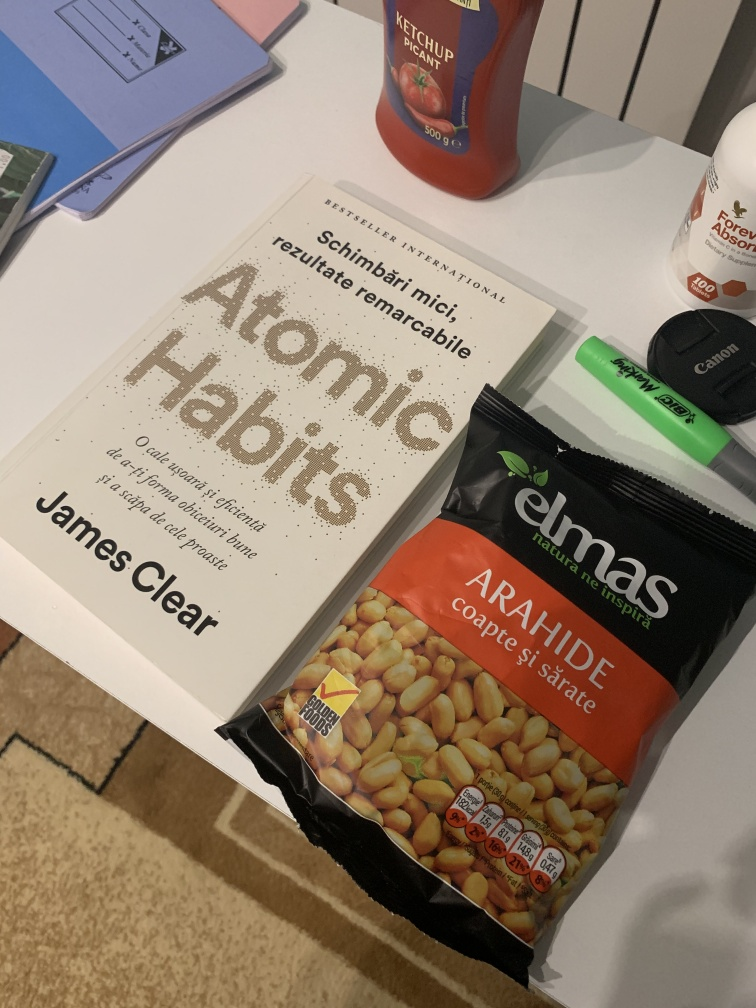ketchup: (360, 1, 558, 206)
peanuts: (267, 374, 755, 987)
